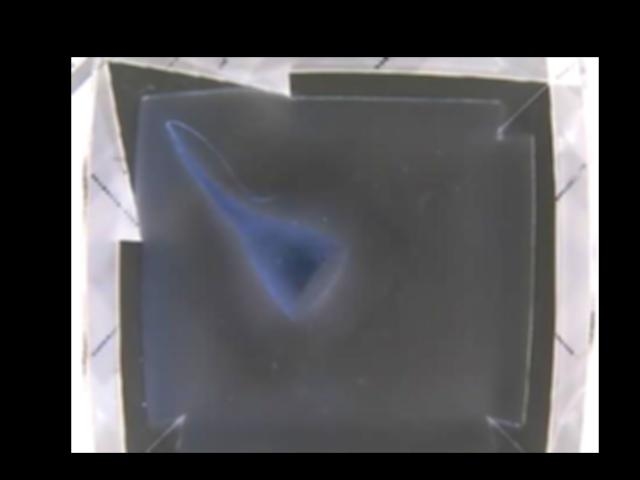Mooli: (234, 207, 349, 328)
